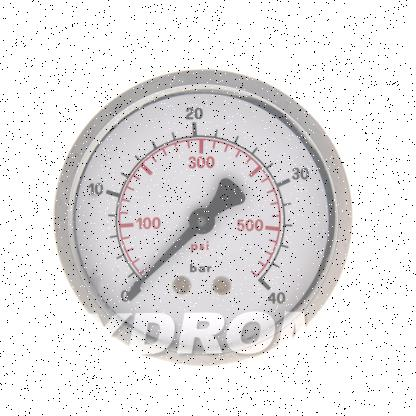needle: (125, 225, 198, 297)
